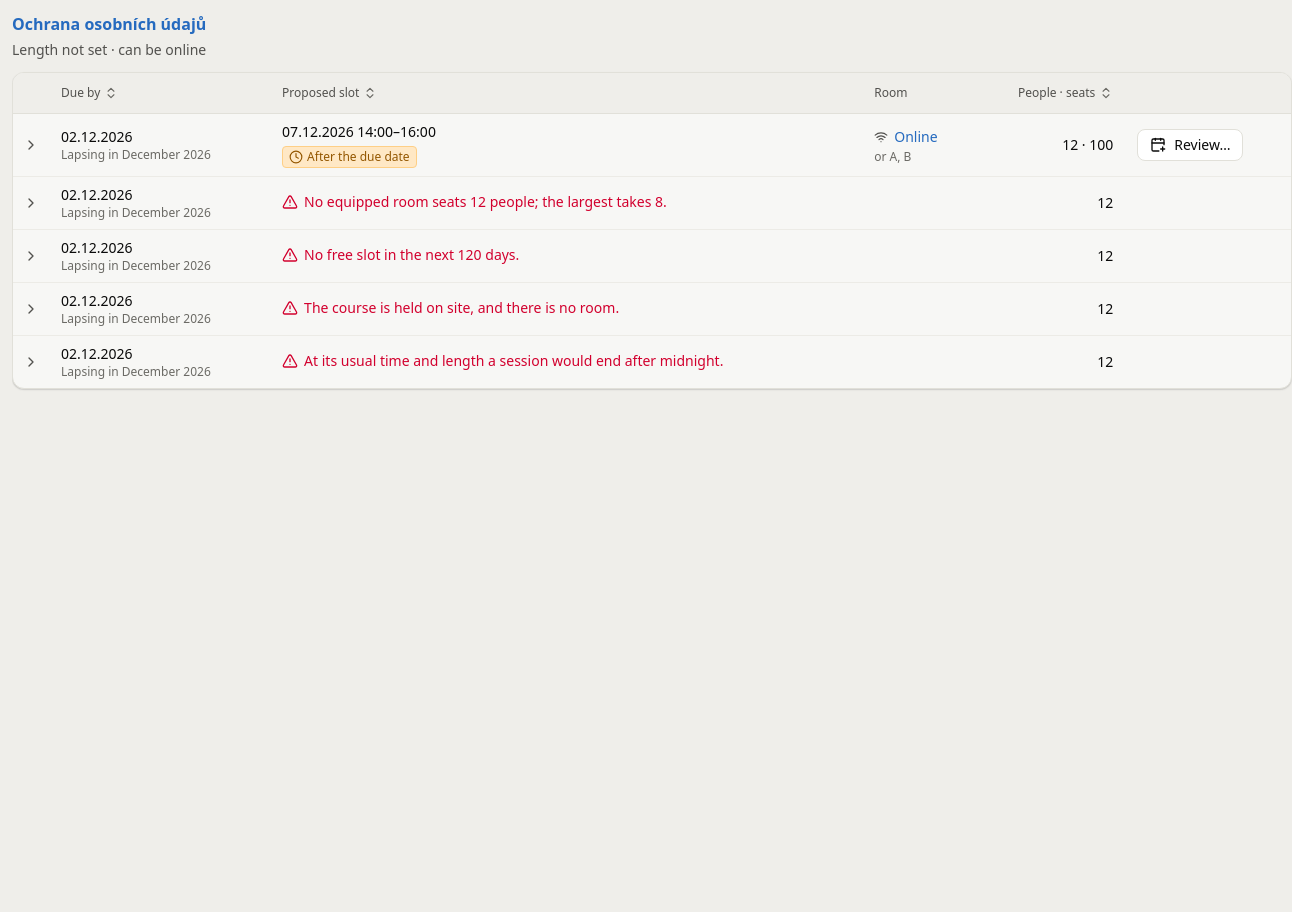
planner offers › mark a late slot, name the other rooms, and explain every kind of failure
expect the text "Length not set · can be online" is shown: met, box x1=12 y1=40 x2=206 y2=60
expect the text "Lapsing in December 2026" is shown 5 times: met, box x1=61 y1=146 x2=211 y2=163; x1=61 y1=204 x2=211 y2=221; x1=61 y1=257 x2=211 y2=274; x1=61 y1=310 x2=211 y2=327; x1=61 y1=363 x2=211 y2=380
// An opened offer lists the other rooms free at its slot, each a link to the room.
Click the button named "People for Ochrana osobních údajů, session 1": (31, 145) x1=17 y1=131 x2=45 y2=159
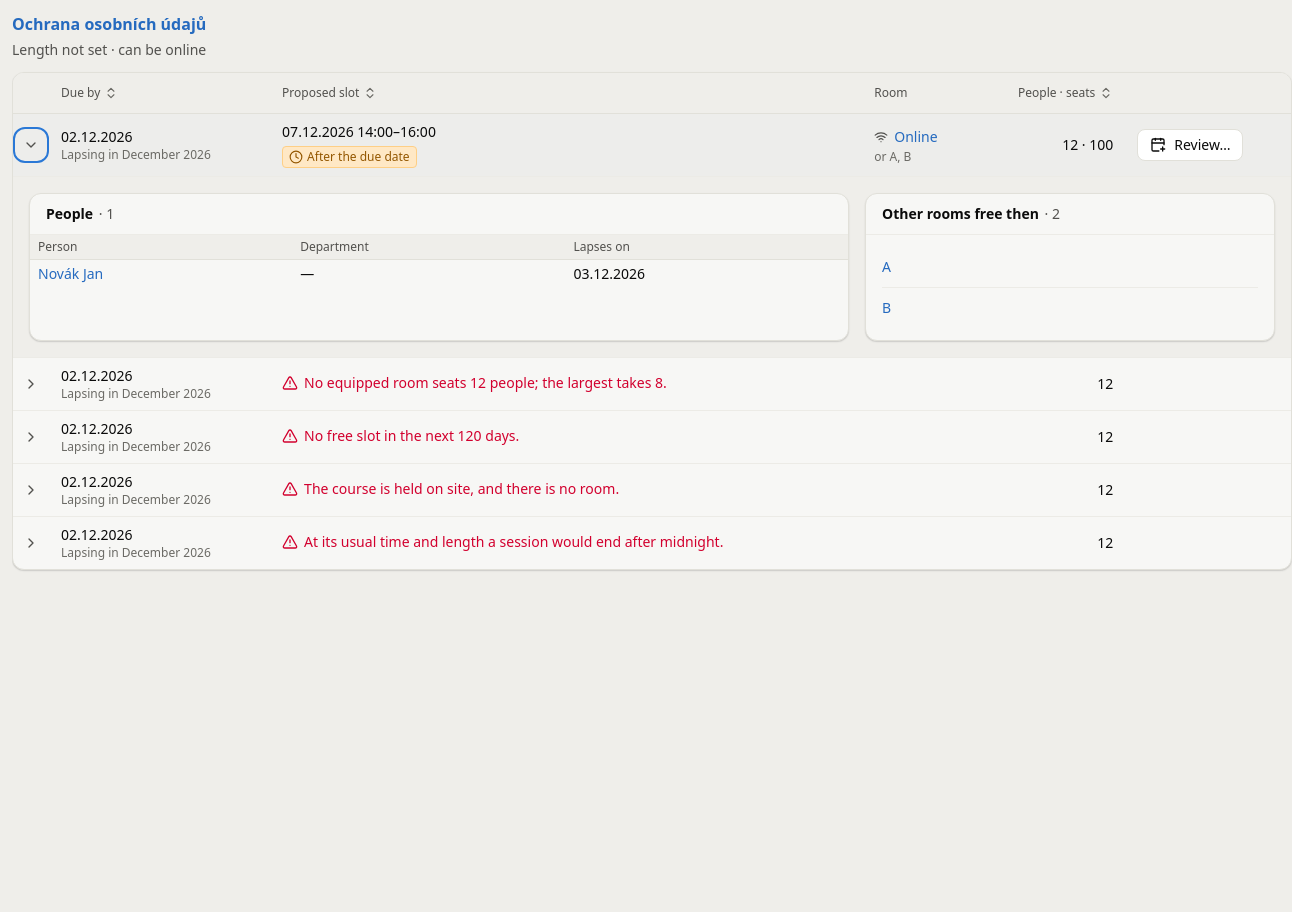
expect the text "No other suitable room is free then." is not shown: met
Click the button named "People for Ochrana osobních údajů, session 2": (31, 384) x1=17 y1=370 x2=45 y2=398
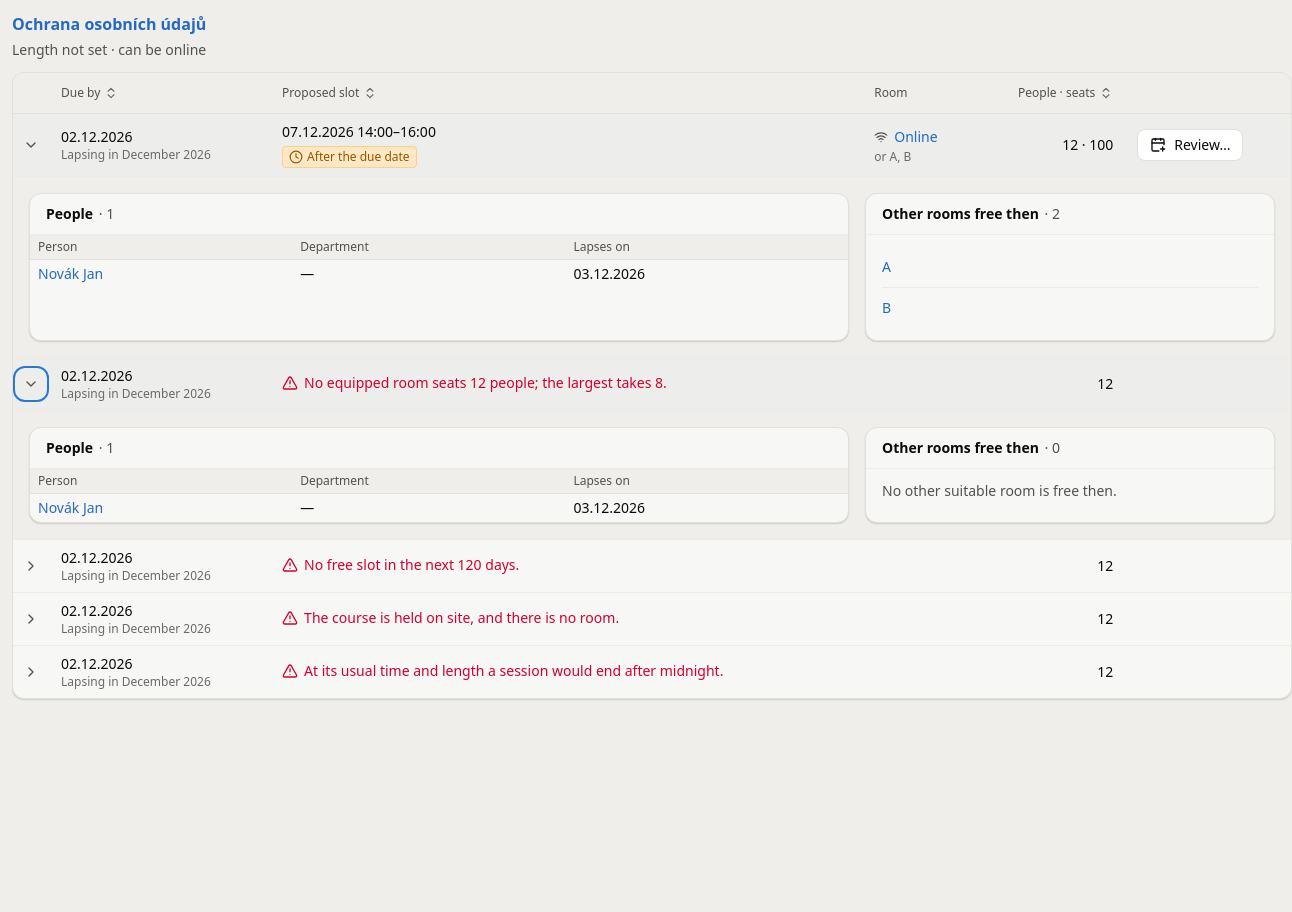
expect the text "No other suitable room is free then." is shown: met, box x1=882 y1=481 x2=1117 y2=500
